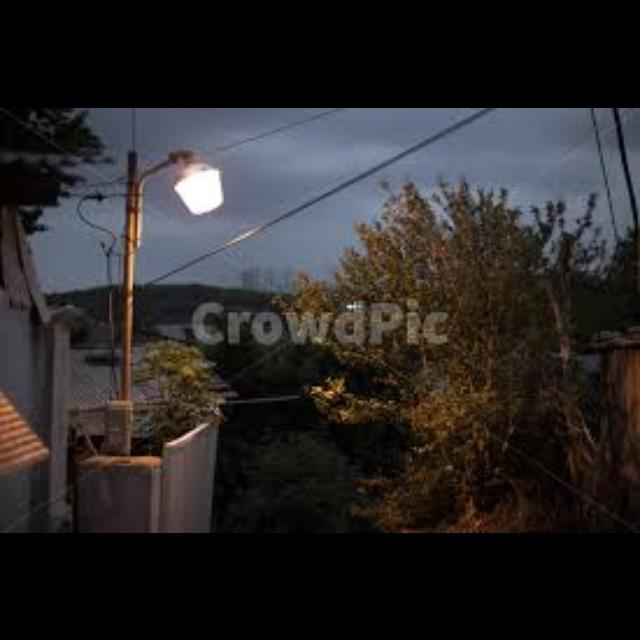Street-Lamp: (108, 120, 222, 463)
